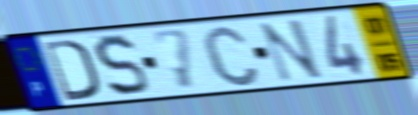4: (323, 13, 367, 79)
7: (150, 27, 198, 94)
C: (199, 22, 263, 89)
D: (41, 37, 101, 103)
N: (256, 17, 326, 85)
S: (91, 32, 152, 99)
